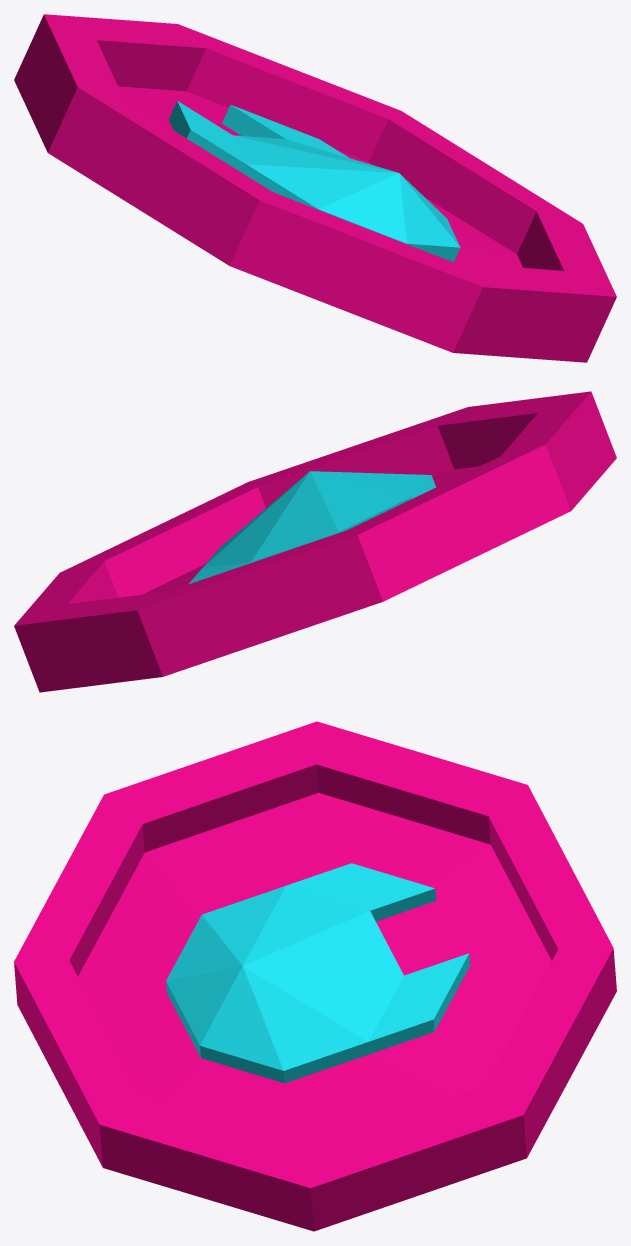
The model's file is NM_coin.glb.
3 renders of one model, top to bottom at view 1: azimuth 30°, elevation 25°; view 2: azimuth 150°, elevation 25°; view 3: azimuth 270°, elevation 25°, orthographic. The views are drawn at different scales.
Visible parts, largest first — view 1: Cylinder.001; view 2: Cylinder.001; view 3: Cylinder.001.
Part boxes in pixels (box(x1,y1,x2,y2)): Cylinder.001: box(14, 14, 616, 362); Cylinder.001: box(14, 391, 616, 692); Cylinder.001: box(14, 721, 616, 1231).
Size of the model in its own units: 0.5275 by 0.3014 by 0.5584.
